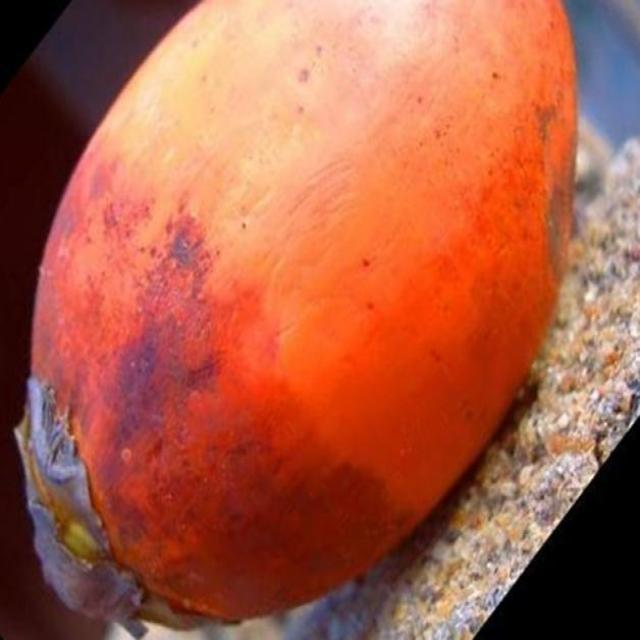good: (13, 0, 579, 639)
